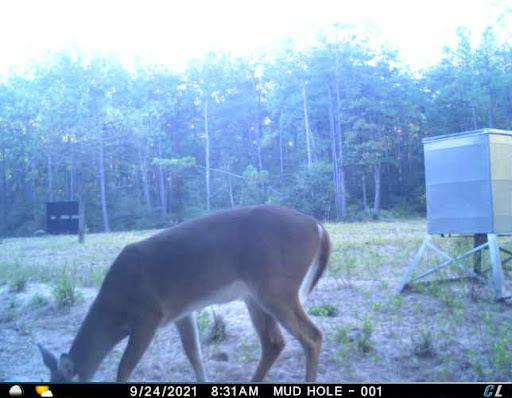Deer: (36, 199, 333, 385)
